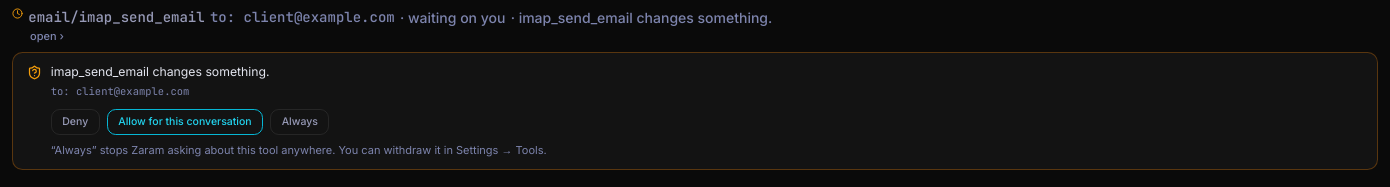
Test: allowing a held tool › says so when the grant did not save, and does not pretend it worked
Step 1. Click the button with test id "allow-tool" → (300, 122), box [270,108,329,135]
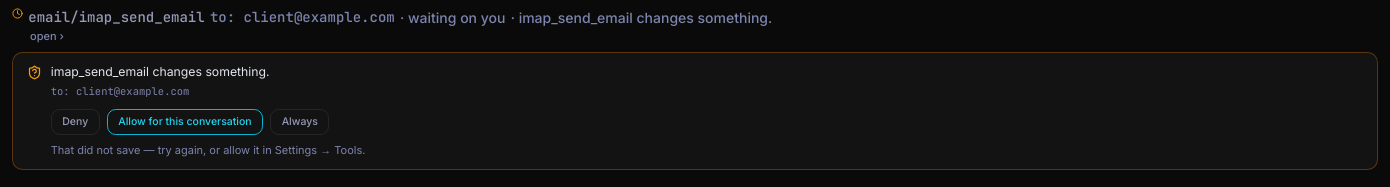
Result: the text "did not save" is shown at [51,143,366,157]
